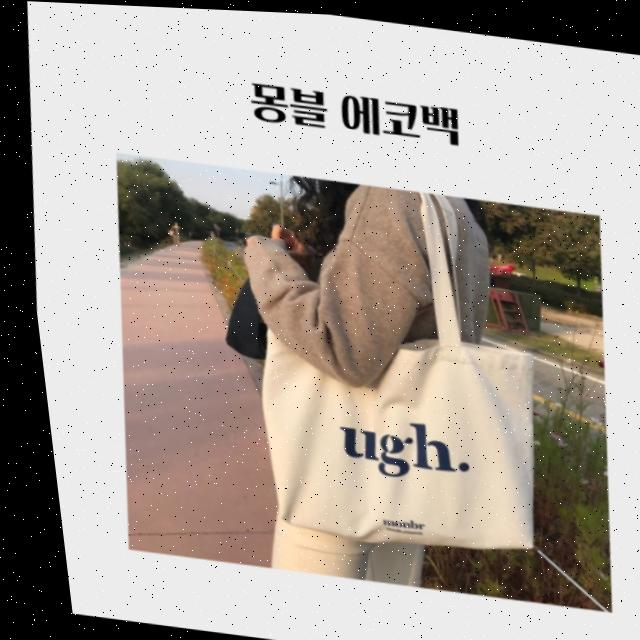ecobag: (202, 162, 569, 571)
